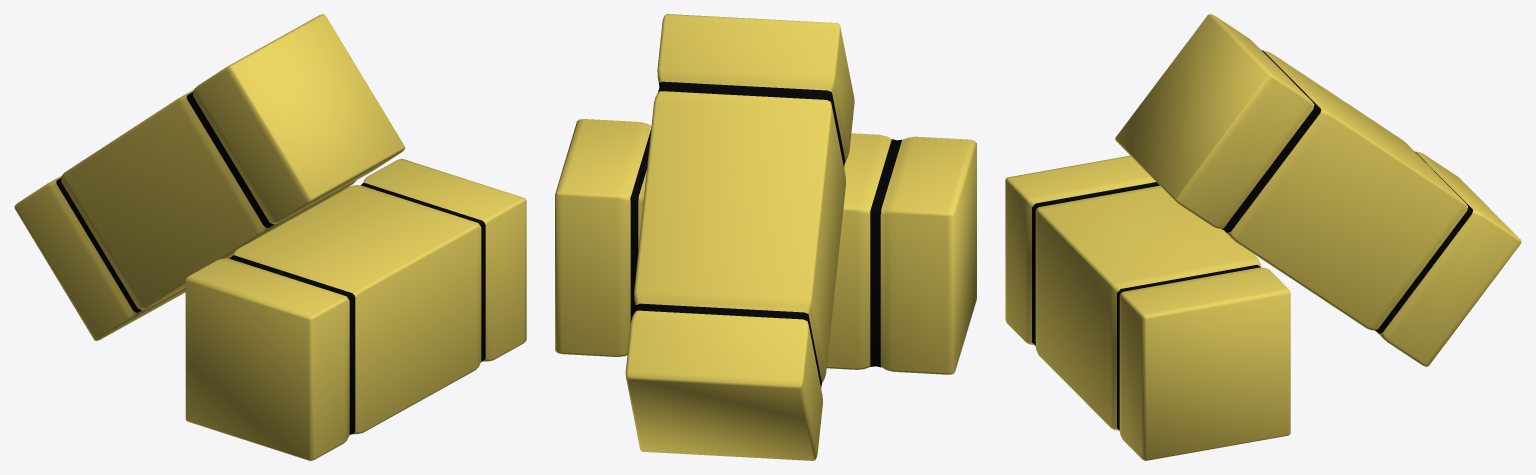
File: saman.fbx
3 views of the same model, side by side, from view 1: azimuth 30°, elevation 25°; view 2: azimuth 150°, elevation 25°; view 3: azimuth 270°, elevation 25° (orthographic). The views are drawn at different scales.
Visible parts, largest first — view 1: Saman; view 2: Saman; view 3: Saman.
Part boxes in pixels (bbox=[...]): Saman: bbox=[14, 14, 526, 460]; Saman: bbox=[555, 14, 976, 460]; Saman: bbox=[1005, 14, 1521, 460].
Size of the model in its own units: 1.82 by 1.56 by 2.28.
